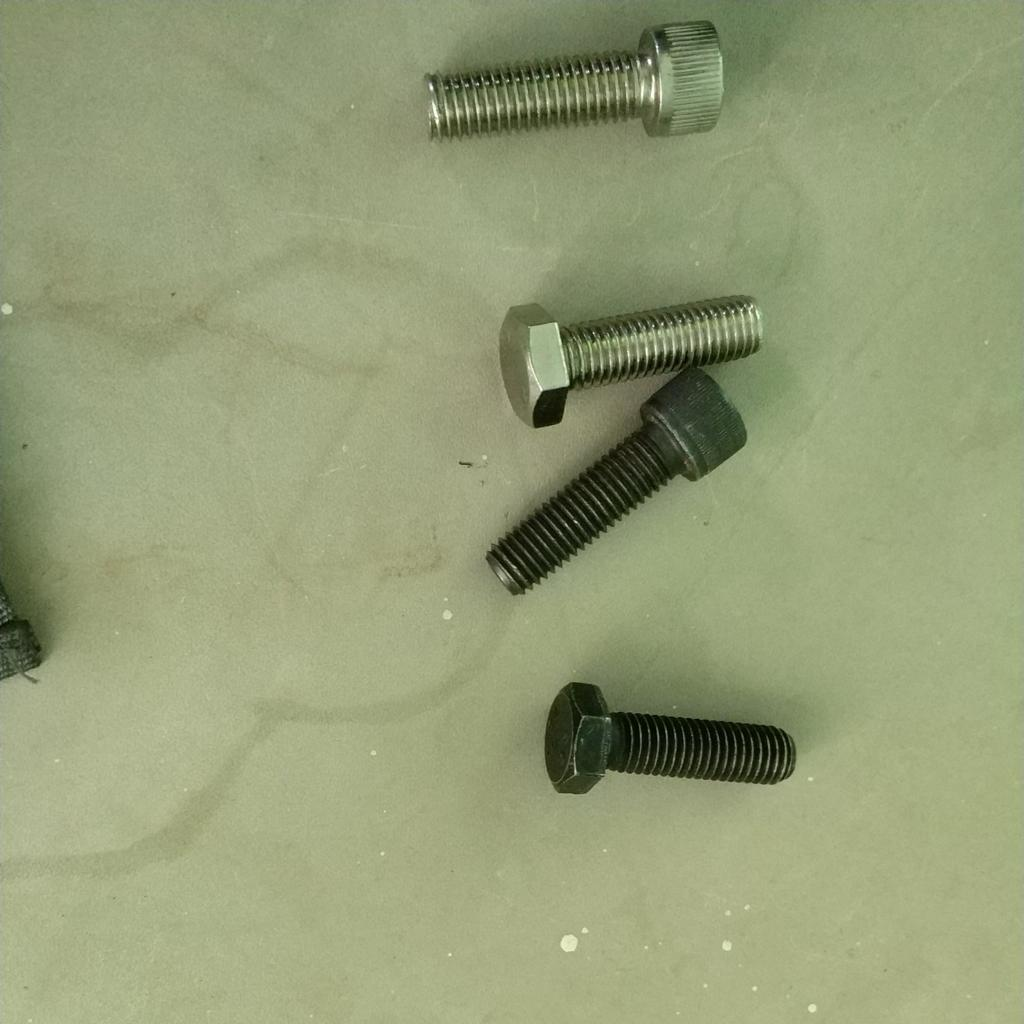screwtype1black: (480, 371, 749, 619)
screwtype1silver: (416, 16, 728, 146)
screwtype2black: (540, 677, 800, 813)
screwtype2silver: (493, 281, 766, 430)
